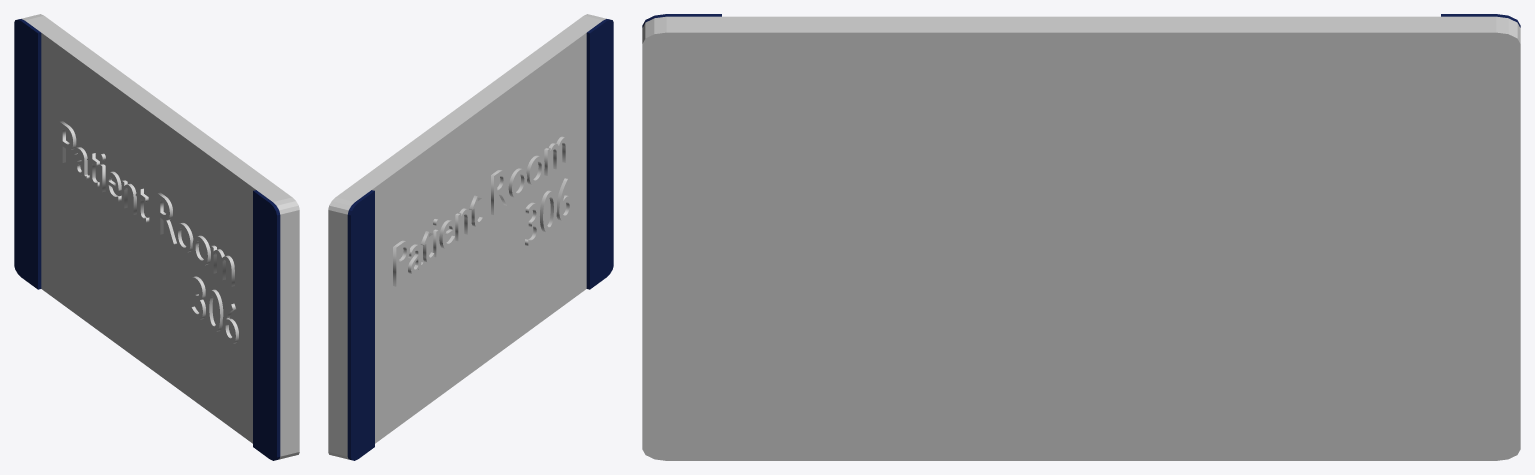
The model's file is doorNumber.fbx.
3 views of the same model, side by side, from view 1: azimuth 30°, elevation 25°; view 2: azimuth 150°, elevation 25°; view 3: azimuth 270°, elevation 25° (orthographic). The views are drawn at different scales.
Parts seen in each view (by area): view 1: Cube, Text.002; view 2: Cube, Text.002; view 3: Cube.
Part boxes in pixels (x1=…): Cube: x1=14, y1=14, x2=299, y2=460; Text.002: x1=59, y1=121, x2=238, y2=343; Cube: x1=328, y1=14, x2=613, y2=460; Text.002: x1=393, y1=136, x2=572, y2=286; Cube: x1=642, y1=14, x2=1520, y2=460.
Bounding box in the file's own units: 28.18 × 302 × 562.
